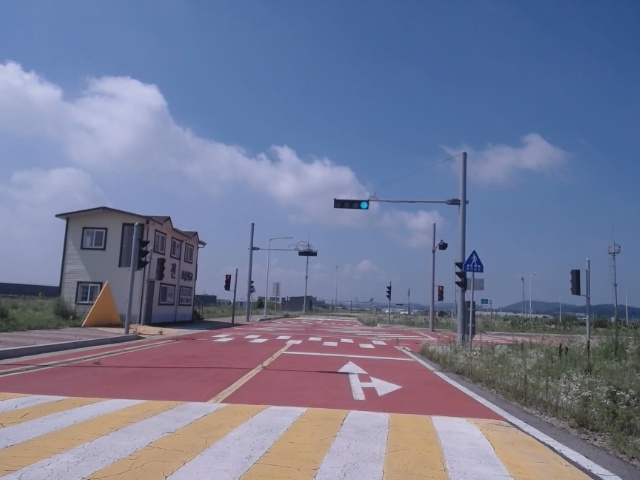straight_green_4: (332, 200, 370, 209)
